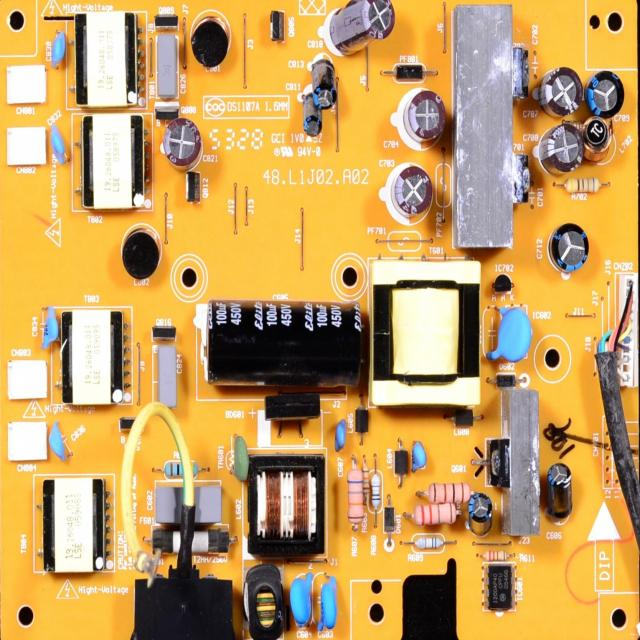Capacitor Jumper: (209, 297, 368, 395), (332, 1, 390, 58), (157, 482, 227, 523), (490, 303, 528, 371), (552, 221, 590, 279), (541, 66, 581, 119), (394, 167, 430, 224), (160, 118, 201, 168), (404, 92, 446, 136), (543, 124, 582, 170), (586, 70, 622, 116), (549, 463, 574, 520), (292, 574, 316, 630), (300, 91, 326, 140), (46, 119, 69, 172), (319, 575, 342, 626), (314, 58, 336, 108), (468, 492, 492, 532), (48, 422, 70, 463), (40, 308, 60, 351), (410, 434, 428, 477), (50, 33, 68, 69), (334, 419, 350, 448)
Connector: (1, 62, 65, 110), (0, 357, 58, 405), (5, 416, 57, 466), (1, 414, 62, 456), (2, 353, 53, 401), (0, 125, 45, 173)
IC: (482, 566, 526, 621)
Resistor Jumper: (409, 502, 466, 530), (554, 173, 603, 198), (427, 483, 474, 507), (358, 469, 377, 517), (348, 466, 362, 530), (162, 460, 202, 482), (370, 472, 389, 518), (413, 532, 448, 554), (479, 547, 520, 565)
Transistor: (183, 168, 201, 210), (271, 5, 288, 45), (154, 14, 180, 33)
